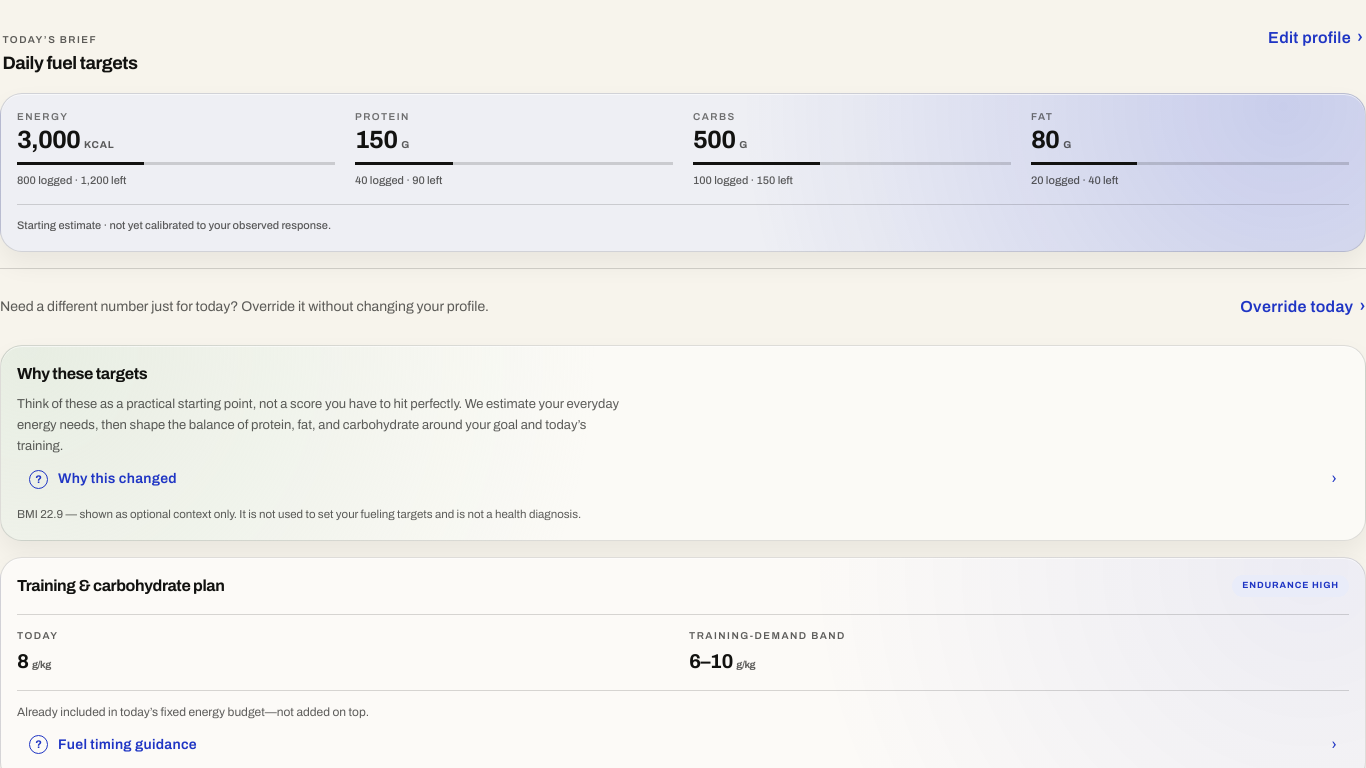
Test case: AdaptiveFuelPlan: a high-carbohydrate training day › renders pre-workout and during-workout carbohydrate guidance for a long/key session
Step 1. Click the button "? Fuel timing guidance ›" → (127, 744), box [17,723,1349,767]
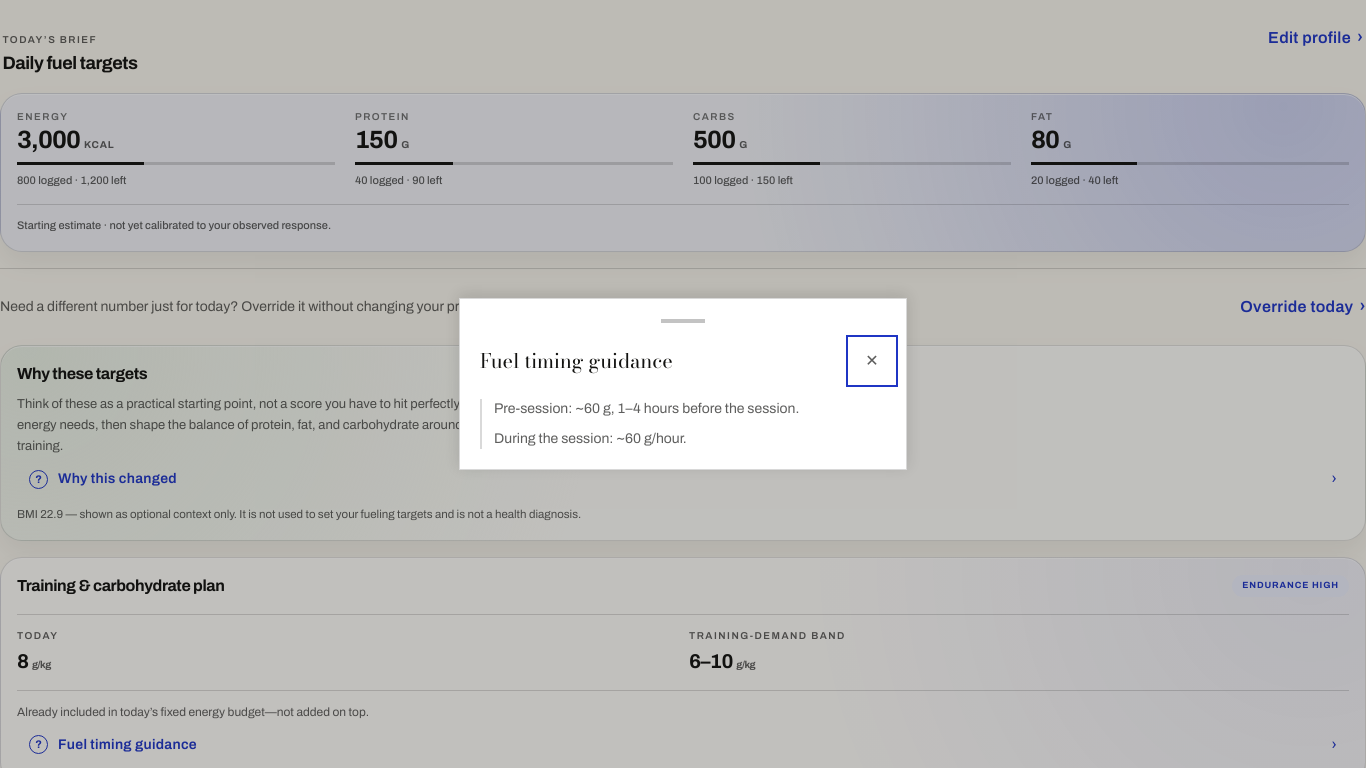
Check: the text "Pre-session: ~60 g" is shown, box [494,401,799,416]
Check: the text "During the session: ~60 g/hour" is shown, box [494,431,687,446]
